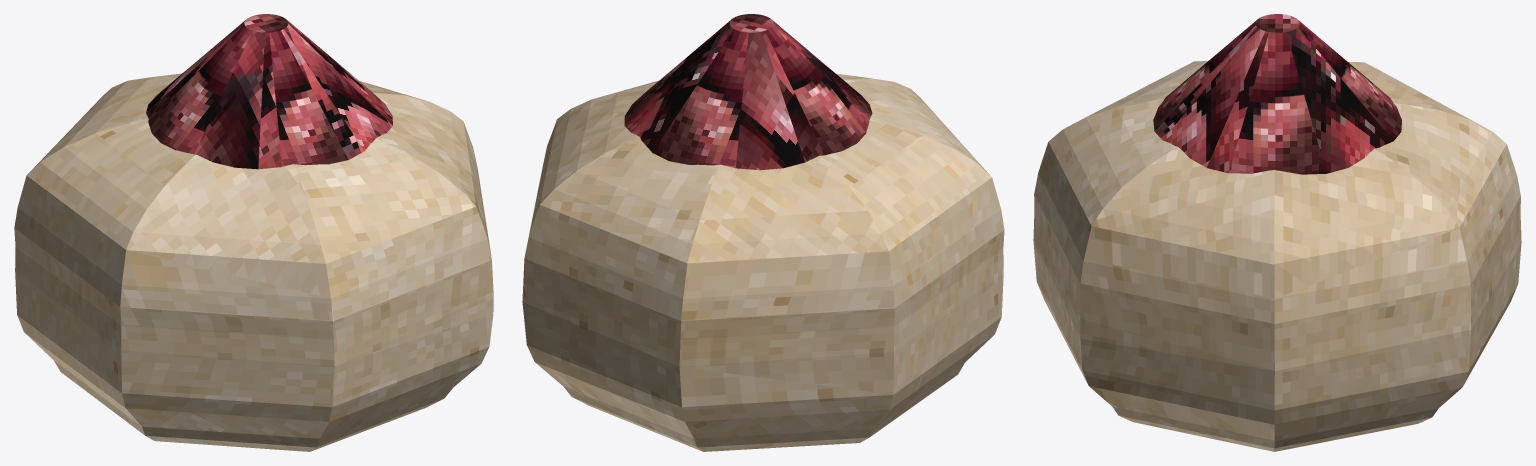
Rendered from dough_with_filling.fbx.
The picture shows the model from 3 angles, left to right: view 1: azimuth 30°, elevation 25°; view 2: azimuth 150°, elevation 25°; view 3: azimuth 270°, elevation 25°; orthographic projection.
Visible parts, largest first — view 1: BezierCurve, Cylinder; view 2: BezierCurve, Cylinder; view 3: BezierCurve, Cylinder.
Part boxes in pixels (box(x1,y1,x2,y2)): BezierCurve: box(14, 73, 493, 451); Cylinder: box(146, 14, 392, 169); BezierCurve: box(522, 73, 1004, 451); Cylinder: box(624, 14, 872, 170); BezierCurve: box(1033, 61, 1521, 451); Cylinder: box(1153, 14, 1401, 174).
Bounding box in the file's own units: 5.98 × 5.16 × 6.11.
